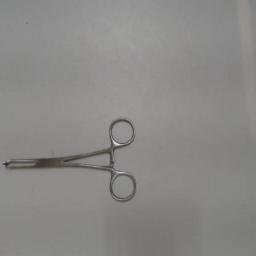Allis Tissue Forceps: (0, 112, 140, 212)
